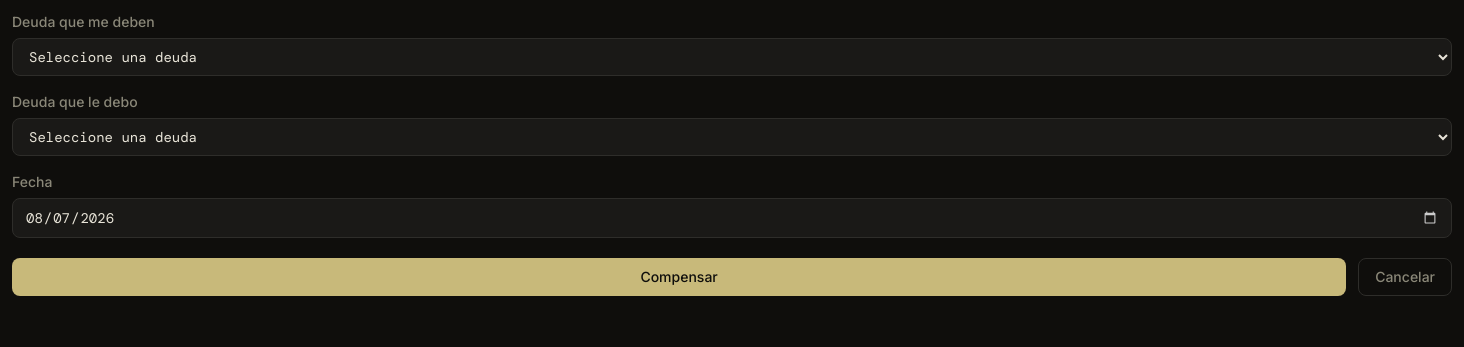
it: PersonalDebtOffsetForm › shows validation error when no debts selected
Step 1. Click the button "Compensar" → (679, 277), box [12,258,1346,296]
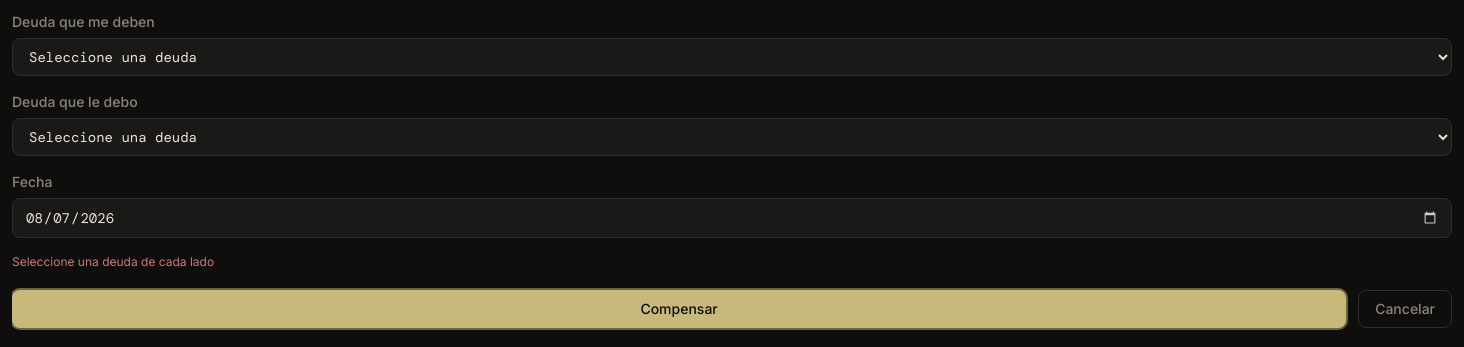
Now the text "Seleccione una deuda de cada lado" is shown, box [12,254,214,269]
